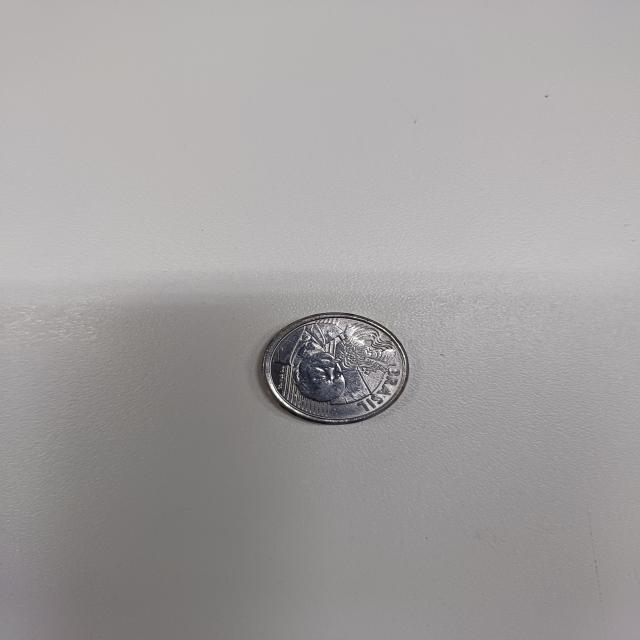50 cents: (263, 311, 411, 430)
